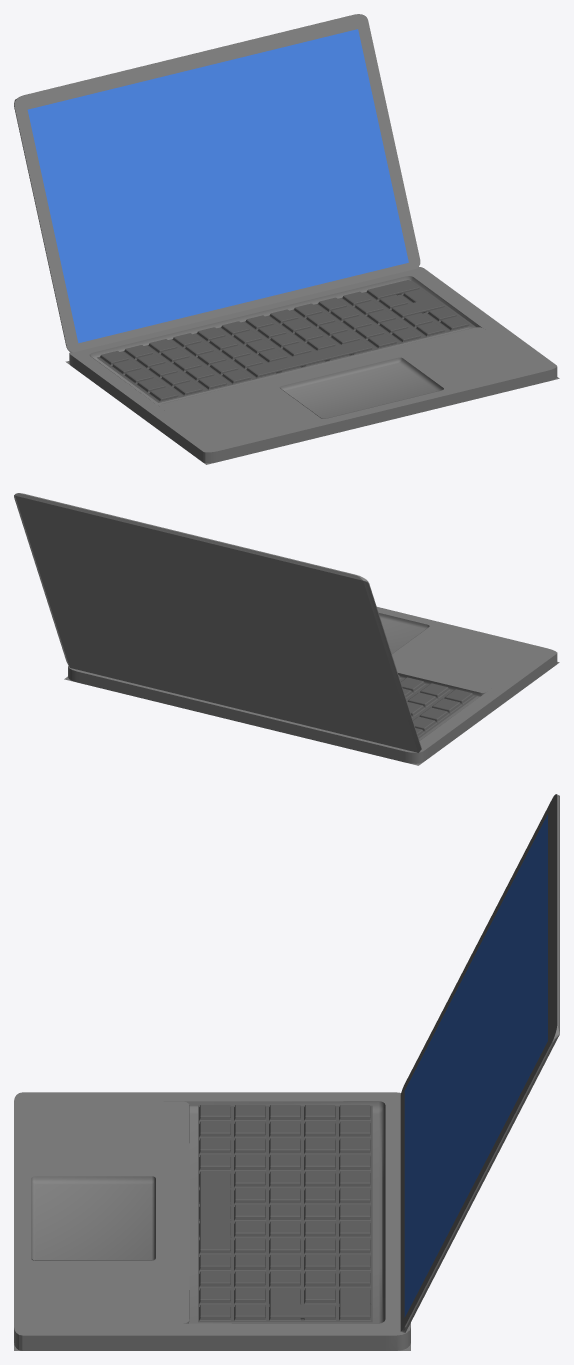
Rendered from laptop.glb.
3 views of the same model, one above another, from view 1: azimuth 30°, elevation 25°; view 2: azimuth 150°, elevation 25°; view 3: azimuth 270°, elevation 25° (orthographic). The views are drawn at different scales.
Parts seen in each view (by area): view 1: screen, laptop bottom, laptop keybord, laptop cover; view 2: laptop cover, laptop bottom, laptop keybord; view 3: laptop bottom, laptop keybord, screen, laptop cover.
Part boxes in pixels (x1,y1,x2,y2): screen: (27,29,408,343); laptop bottom: (65,267,559,464); laptop keybord: (97,280,472,402); laptop cover: (14,14,420,352); laptop cover: (14,493,421,752); laptop bottom: (64,607,559,765); laptop keybord: (398,675,476,738); laptop bottom: (14,1092,410,1350); laptop keybord: (198,1105,372,1322); screen: (404,814,547,1317); laptop cover: (400,794,559,1332).
Size of the model in its own units: 0.8359 by 0.5093 by 0.7916.
